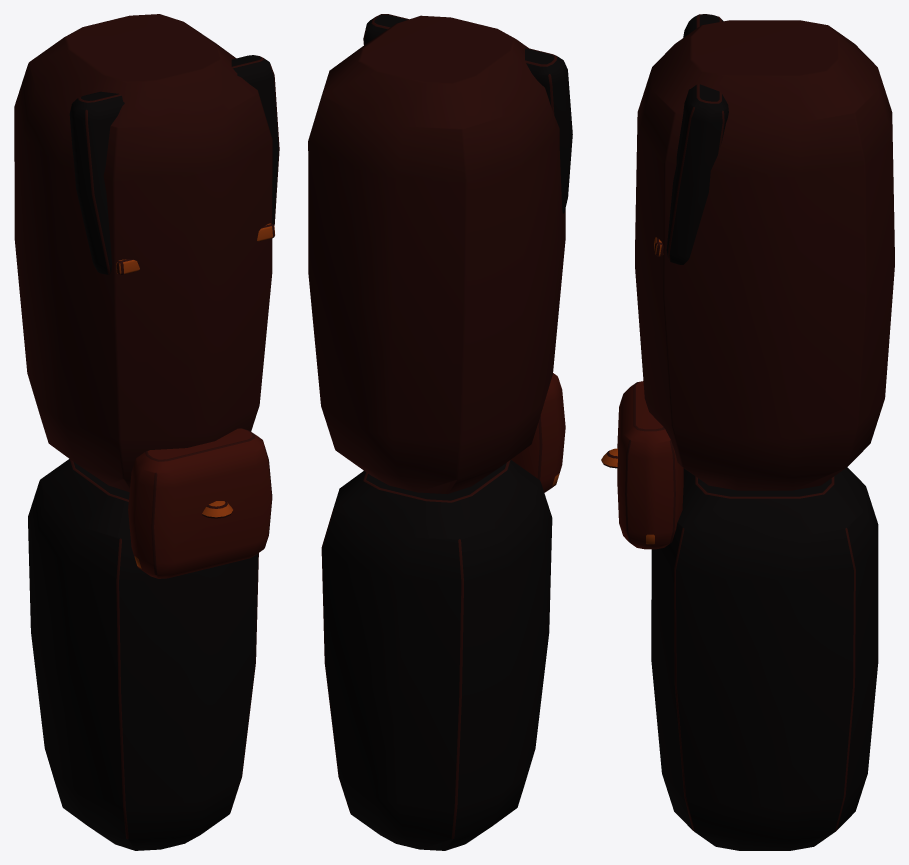
The model's file is Igneo_CalcaR.fbx.
3 renders of one model, left to right at view 1: azimuth 30°, elevation 25°; view 2: azimuth 150°, elevation 25°; view 3: azimuth 270°, elevation 25°, orthographic.
Visible parts, largest first — view 1: Piece; view 2: Piece; view 3: Piece.
Boxes of the visible parts, left/top/right/bottom form: Piece: left=14, top=14, right=279, bottom=850; Piece: left=308, top=14, right=572, bottom=850; Piece: left=601, top=14, right=894, bottom=850.
Size of the model in its own units: 0.2095 by 0.7561 by 0.2567.
